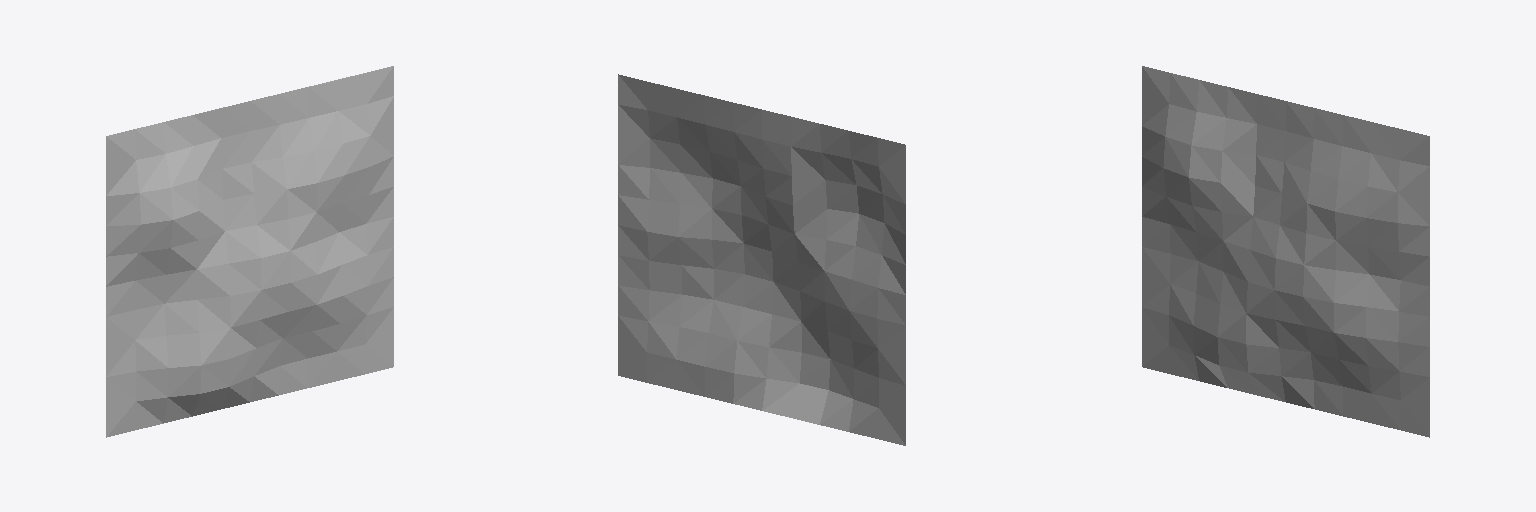
Rendered from foliage.obj.
3 renders of one model, left to right at view 1: azimuth 30°, elevation 25°; view 2: azimuth 150°, elevation 25°; view 3: azimuth 330°, elevation 25°, orthographic.
Parts seen in each view (by area): view 1: ZBrush_defualt_group; view 2: ZBrush_defualt_group; view 3: ZBrush_defualt_group.
Part boxes in pixels (x1,y1,x2,y2): ZBrush_defualt_group: (106, 66, 393, 437); ZBrush_defualt_group: (618, 74, 905, 445); ZBrush_defualt_group: (1142, 66, 1429, 437).
Size of the model in its own units: 2 by 2 by 0.1406.